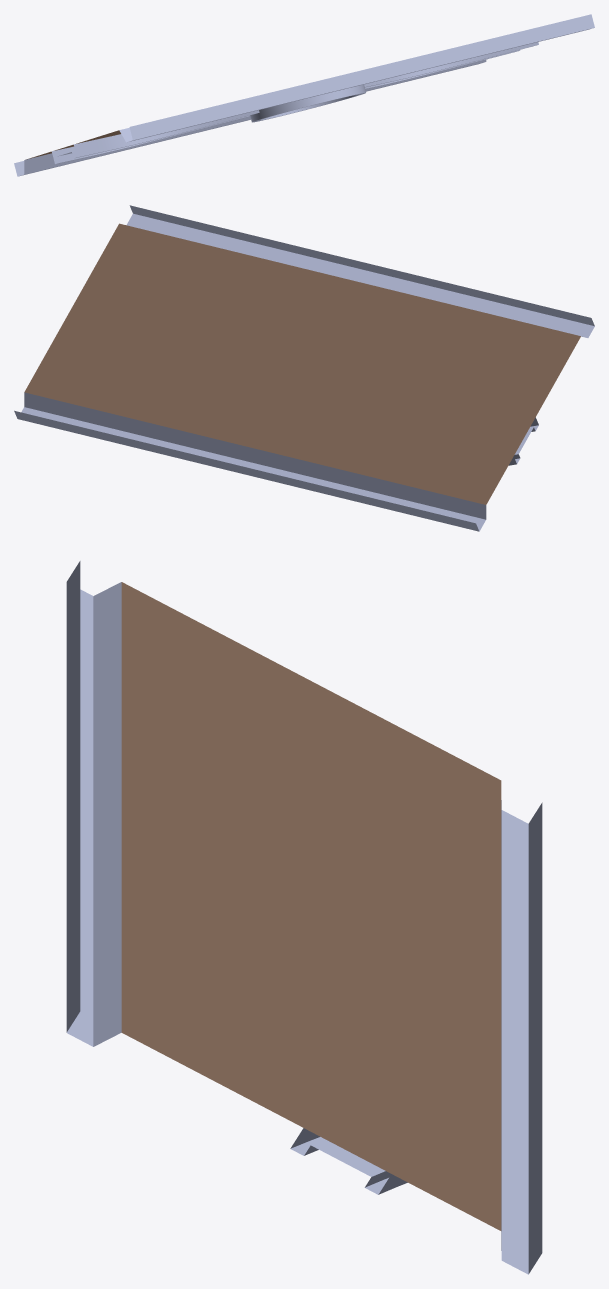
Rendered from SM_Blockout_Ceiling_01.fbx.
The picture shows the model from 3 angles, top to bottom: view 1: azimuth 30°, elevation 25°; view 2: azimuth 150°, elevation 25°; view 3: azimuth 270°, elevation 25°; orthographic projection. The views are drawn at different scales.
Parts seen in each view (by area): view 1: Ceiling_2; view 2: Ceiling_2; view 3: Ceiling_2.
Part boxes in pixels (x1,y1,x2,y2): Ceiling_2: (14, 14, 594, 176); Ceiling_2: (14, 205, 594, 531); Ceiling_2: (66, 561, 542, 1274).
Size of the model in its own units: 300 by 81.77 by 134.
